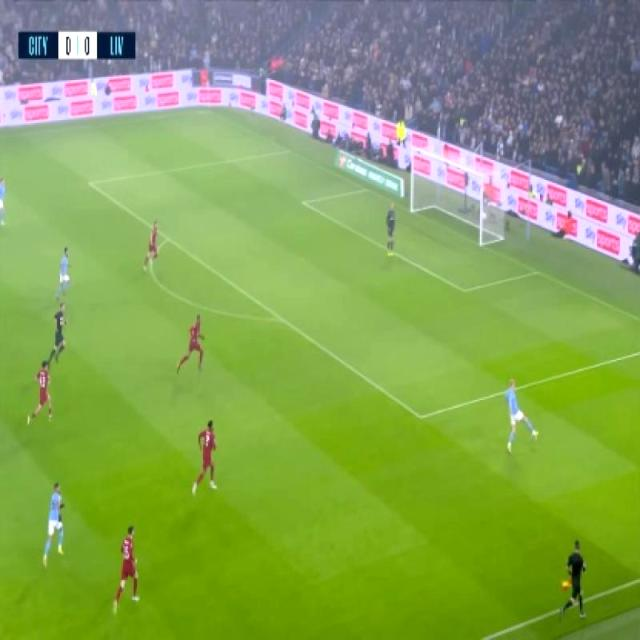bigarea_bottom_inner: (409, 406, 435, 429)
bigarea_top_inner: (83, 176, 94, 190)
bigarea_top_outter: (279, 143, 298, 158)
bottom_arc_area_intersection: (267, 308, 293, 332)
corner: (200, 106, 217, 117)
smallarea_bottom_inner: (456, 282, 469, 298)
smallarea_bottom_outter: (526, 263, 546, 281)
smallarea_top_inner: (298, 195, 318, 214)
smallarea_top_outter: (358, 183, 374, 197)
top_arc_area_intersection: (160, 232, 173, 248)
